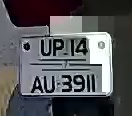1: (68, 37, 77, 59), (91, 73, 98, 93), (85, 74, 92, 93)
3: (61, 73, 73, 94)
4: (75, 37, 90, 57)
9: (74, 73, 86, 93)
A: (29, 74, 44, 95)
P: (52, 36, 65, 60)
U: (43, 73, 57, 95), (39, 38, 53, 59)
